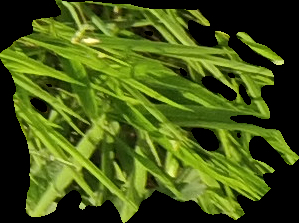grass: (1, 1, 297, 221)
